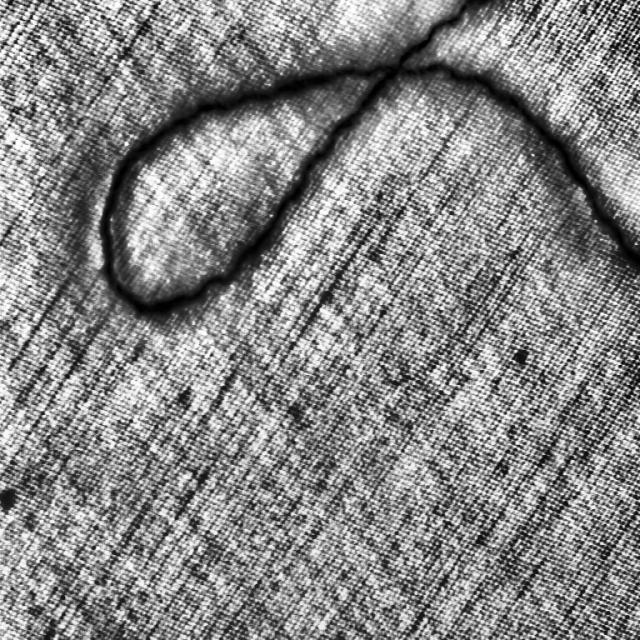gray stitch: (94, 0, 639, 322)
